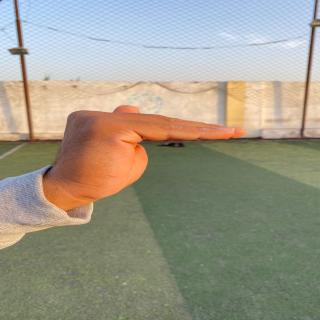KHAA: (49, 100, 250, 210)
